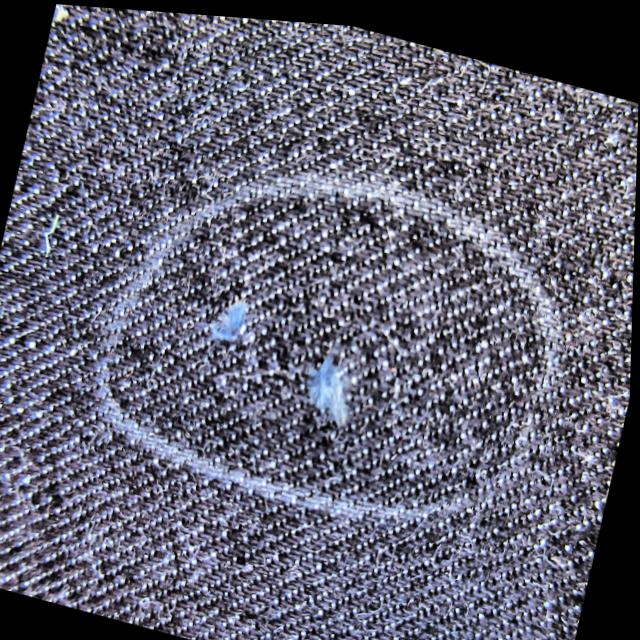Hole: (286, 328, 386, 447), (194, 258, 269, 367)
